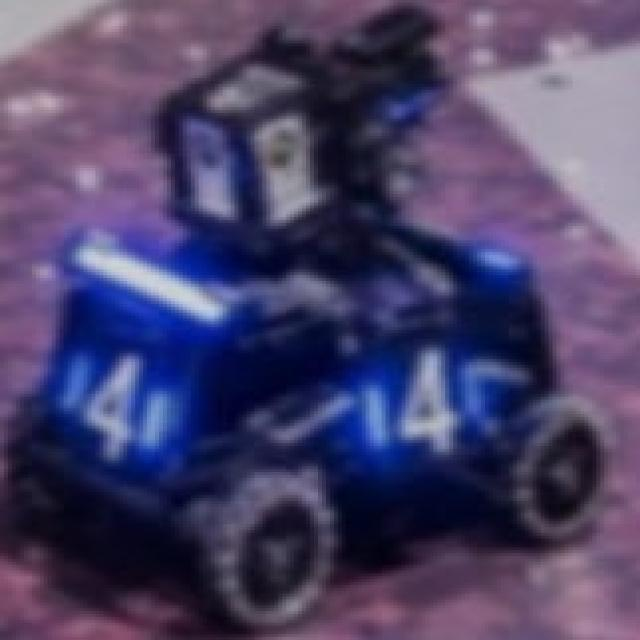B4: (362, 344, 489, 454), (56, 348, 163, 458)
